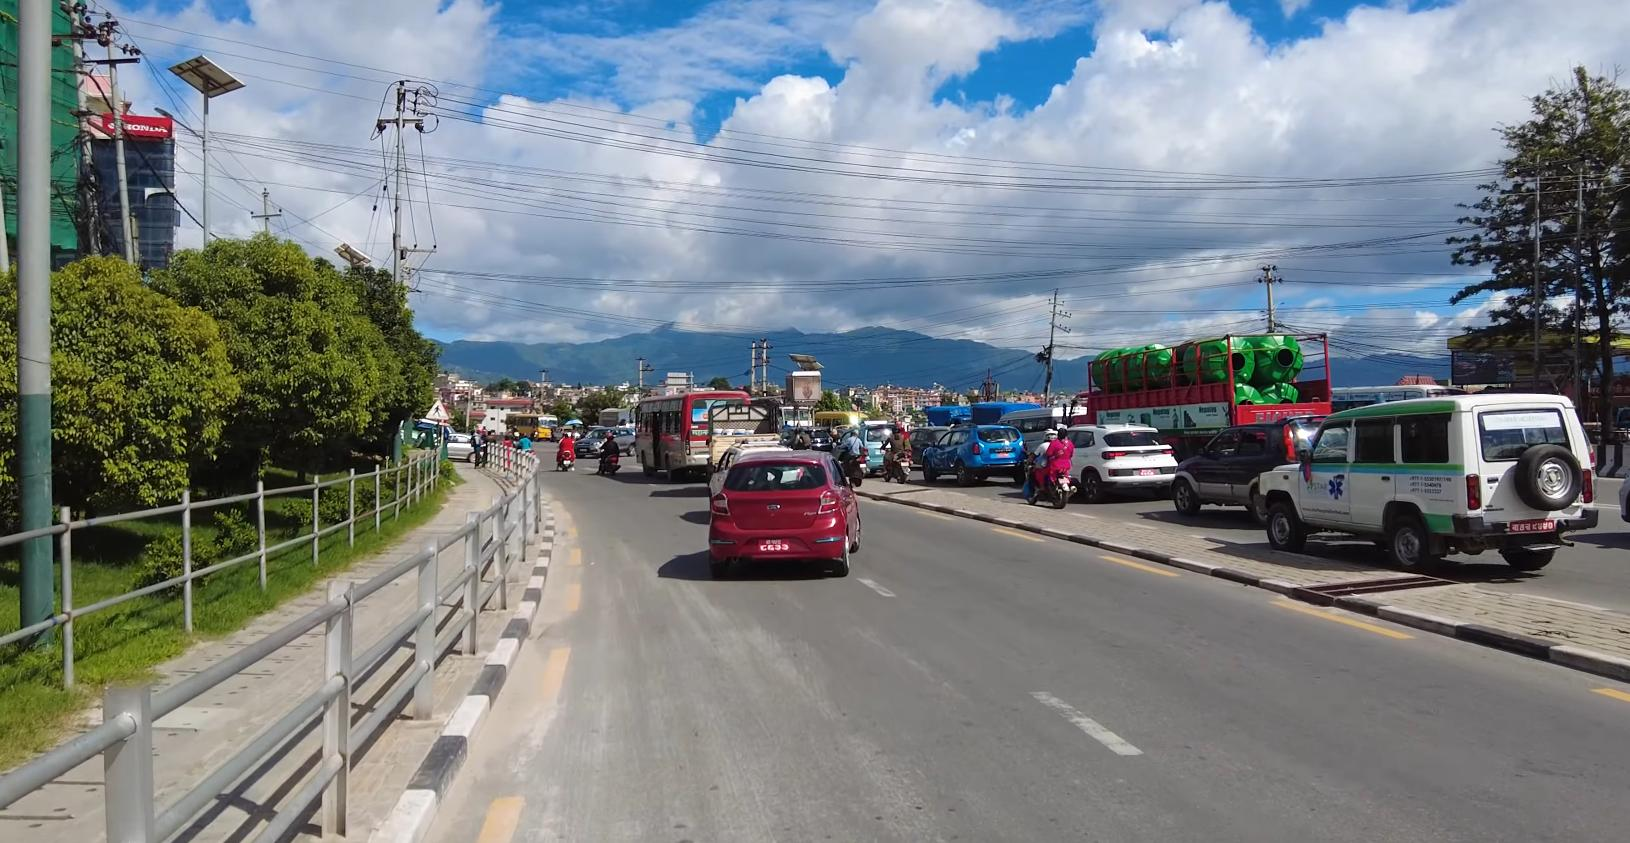ambulance: (1263, 374, 1607, 574)
car: (705, 448, 872, 582), (920, 425, 1030, 486)
school_bus: (509, 409, 561, 443)
